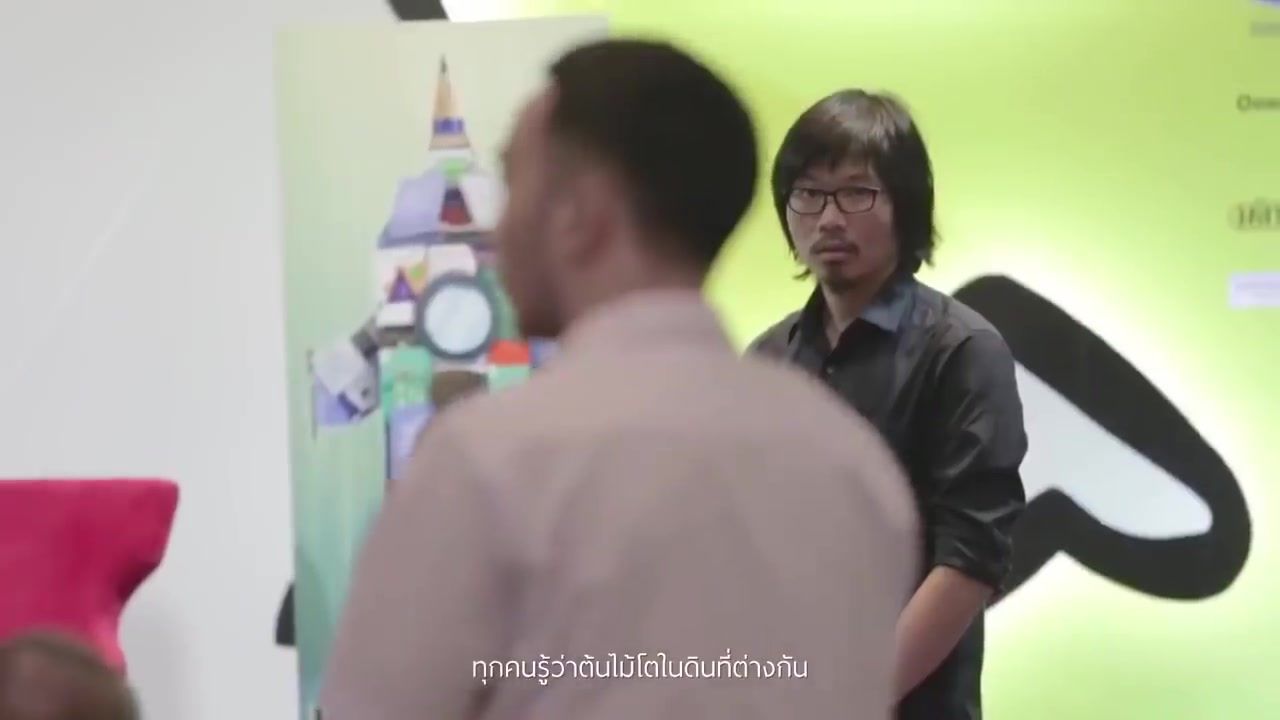text-label: (462, 647, 814, 688)
